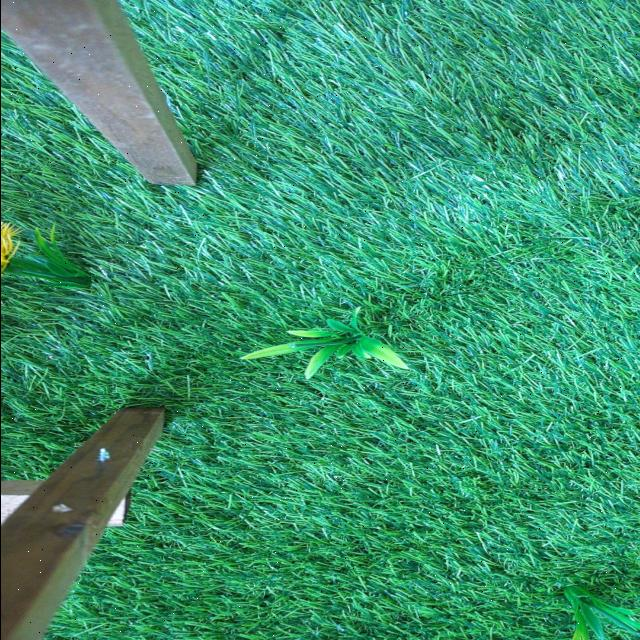base: (234, 312, 406, 379), (16, 227, 90, 296), (560, 588, 636, 640)
flower: (0, 220, 18, 278)
